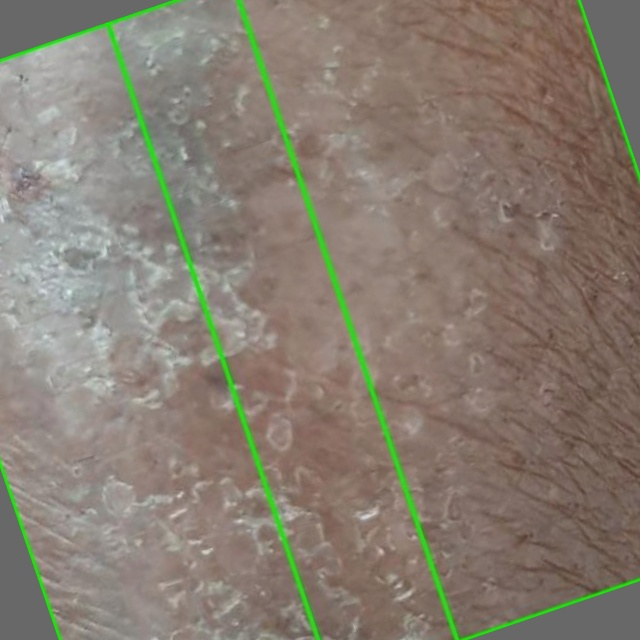Eczema: (107, 0, 639, 639), (0, 0, 456, 639)
